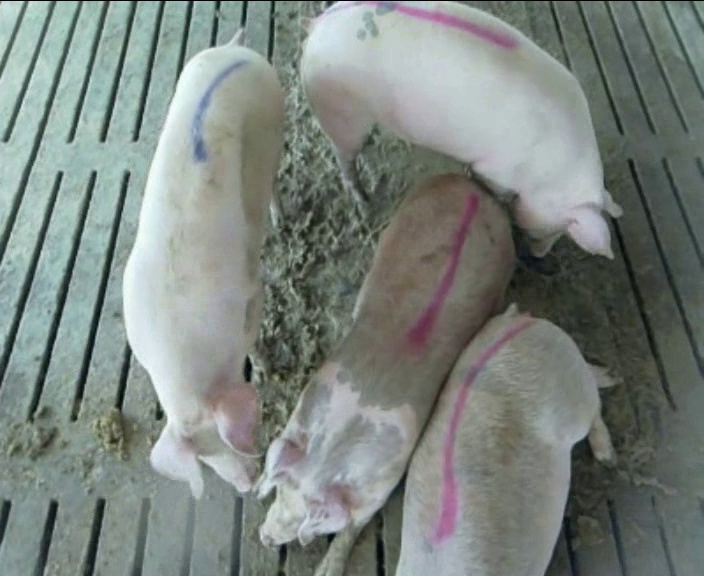pig: (258, 176, 514, 575), (301, 3, 621, 256), (123, 29, 284, 497), (397, 305, 621, 573)
